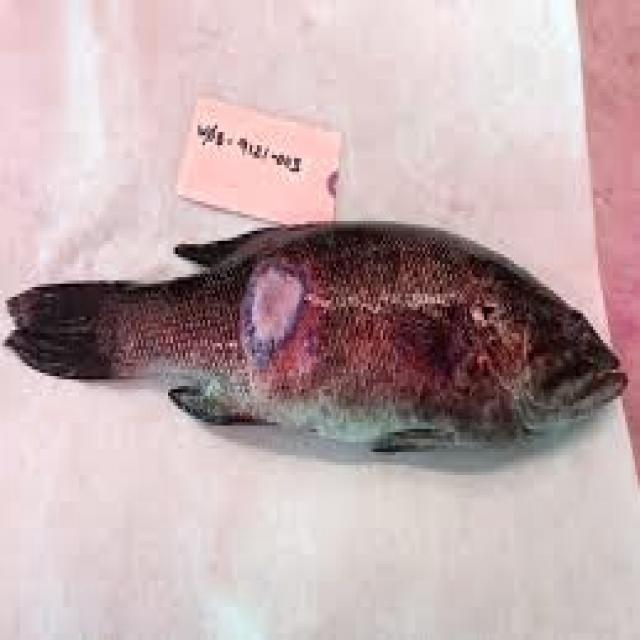EUS Disease: (8, 218, 630, 452), (181, 251, 564, 440)
